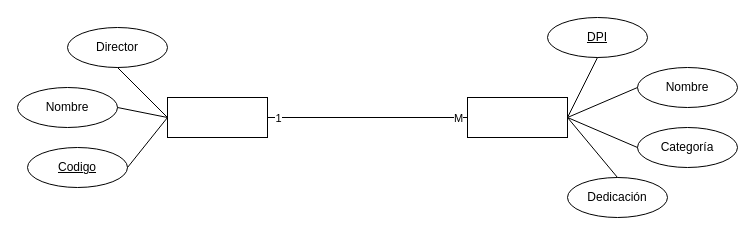
This 755x235 diagram has some shape labels left out. Each missing label, with the box of its shape:
Departamento: (166, 96, 268, 138)
Empleado: (466, 96, 568, 138)
